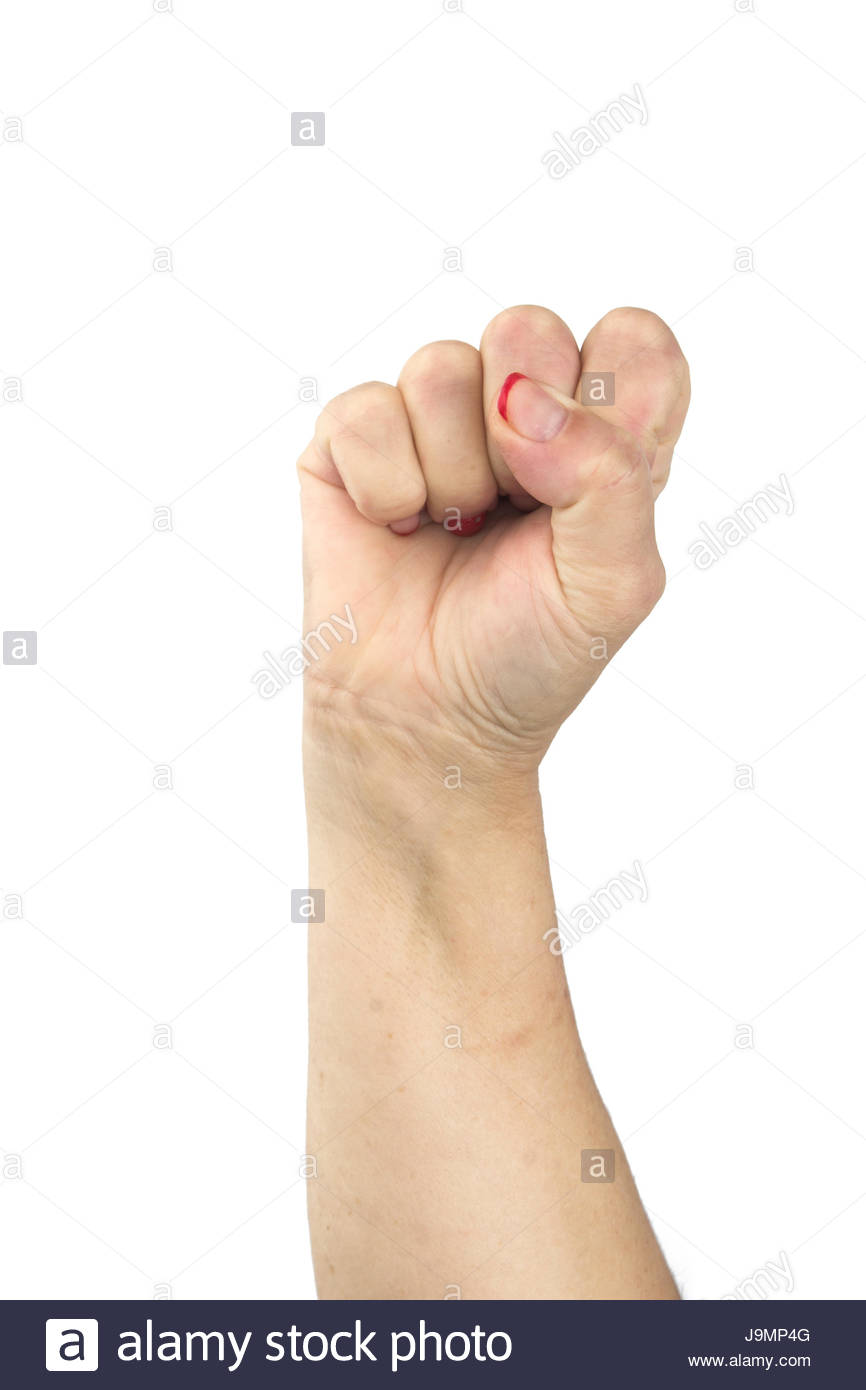fist: (281, 293, 701, 753)
